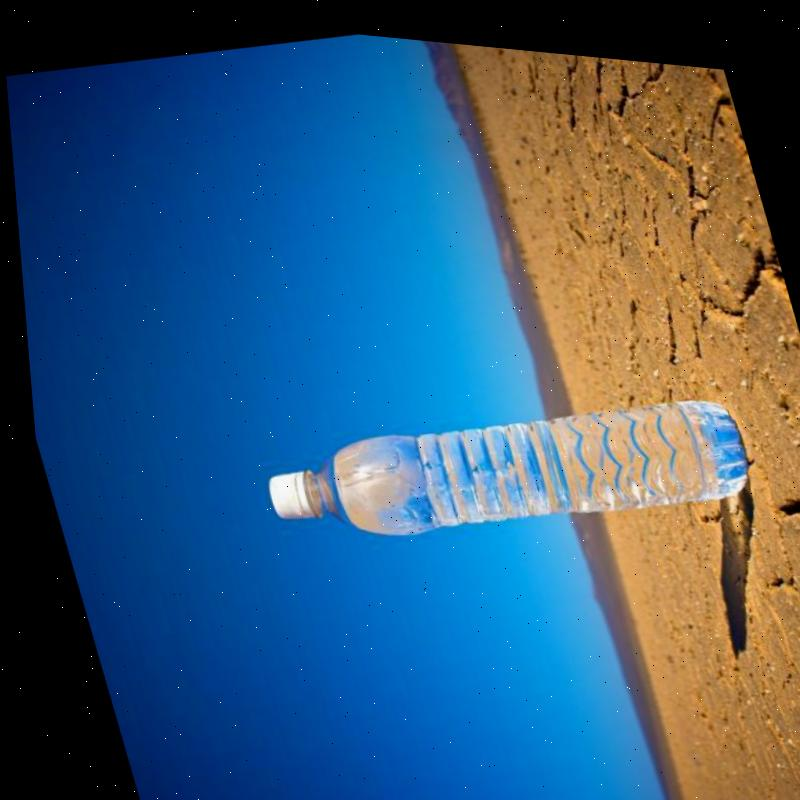botella: (242, 344, 756, 581)
